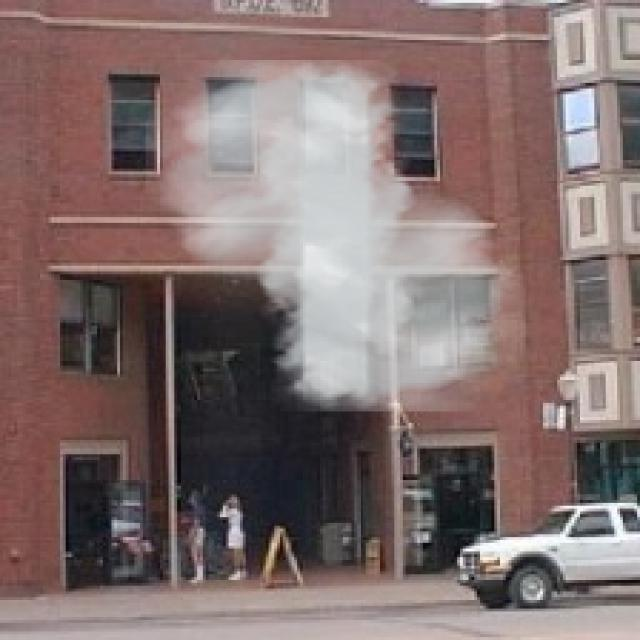smoke: (145, 60, 526, 411)
